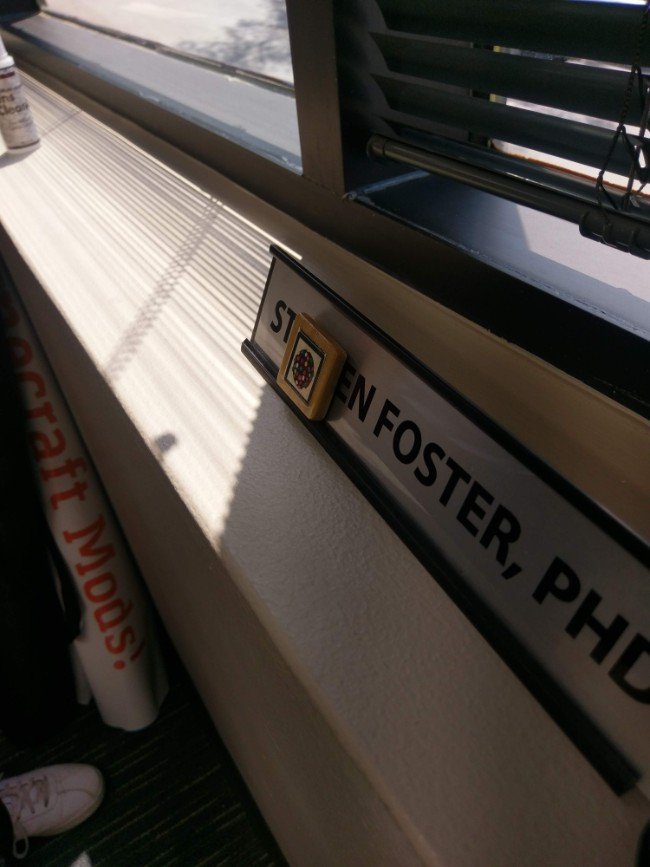cookie: (275, 329, 327, 405)
